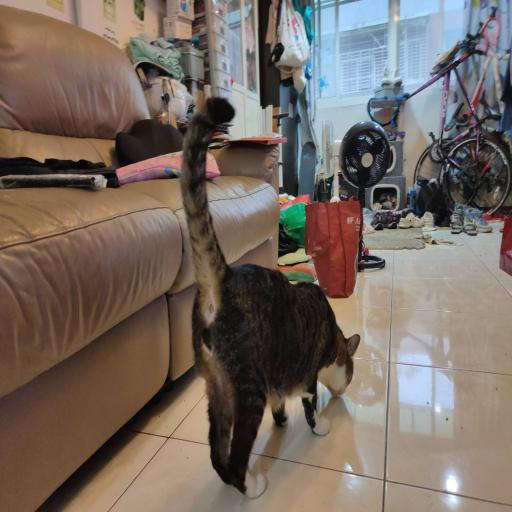cat: (188, 259, 359, 490)
